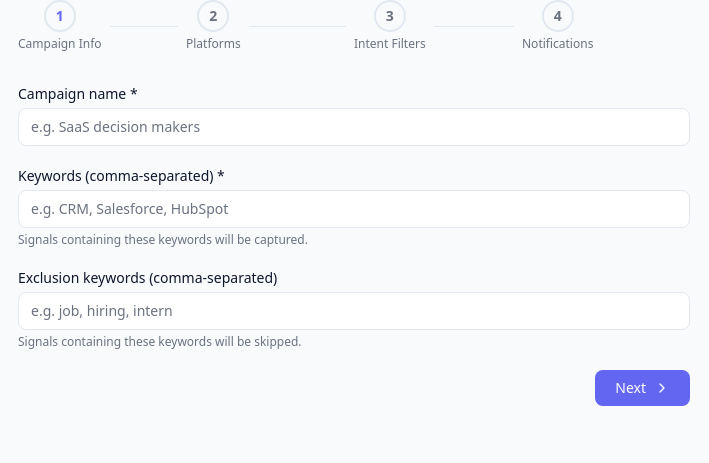
Test: CampaignWizard — Step 1: Campaign Info › shows error when campaign name is empty on Next
Click the button "Next" at (643, 388), box [595,370,690,406]
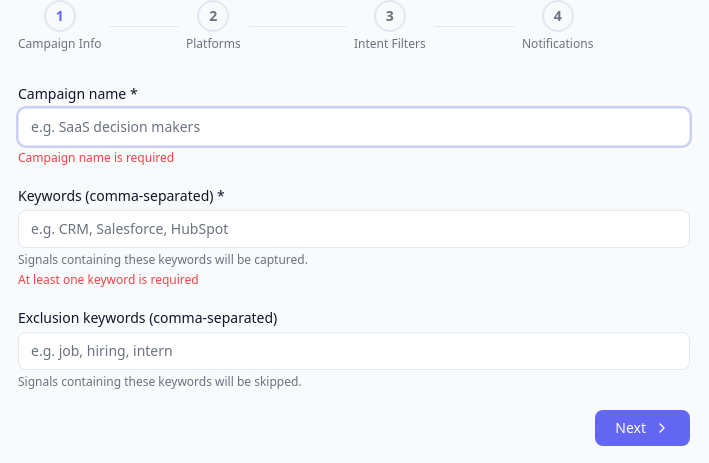
Result: the text "Campaign name is required" is shown at [18,149,174,166]
